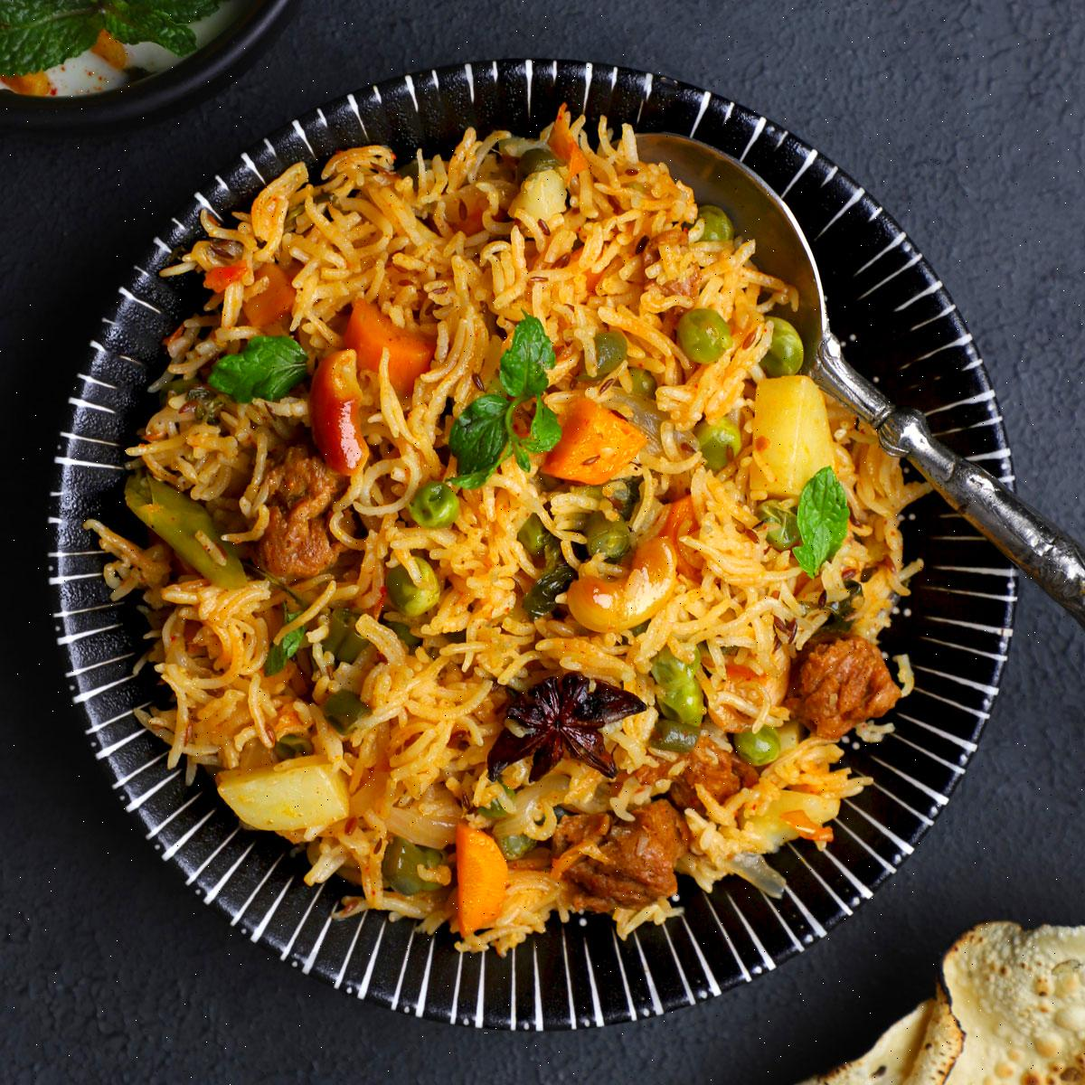veg-pulao: (173, 227, 854, 904)
